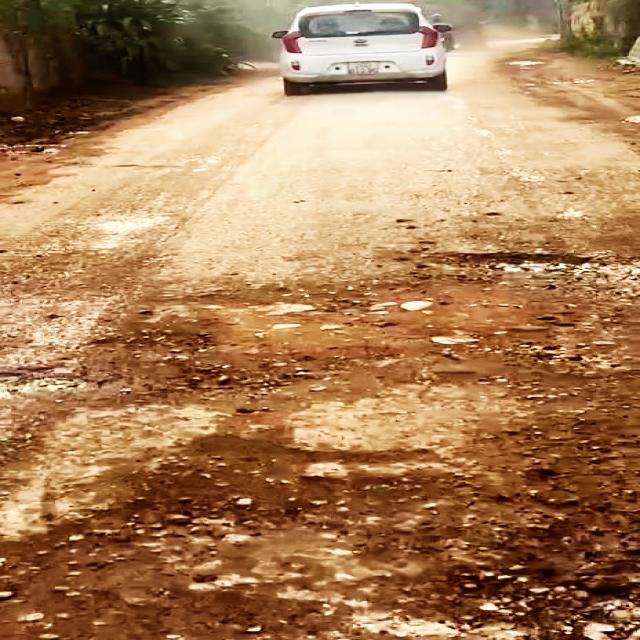pothole: (0, 440, 363, 640), (114, 325, 309, 414), (404, 239, 639, 298)
